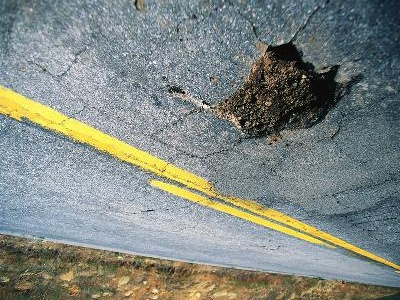pothole: (208, 37, 366, 143)
